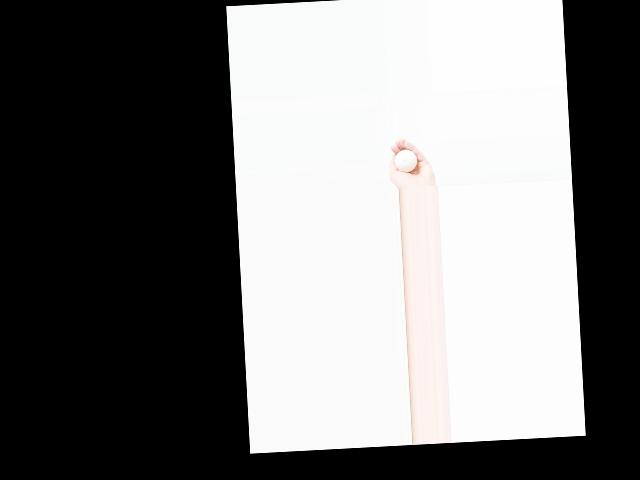egg: (395, 148, 417, 172)
